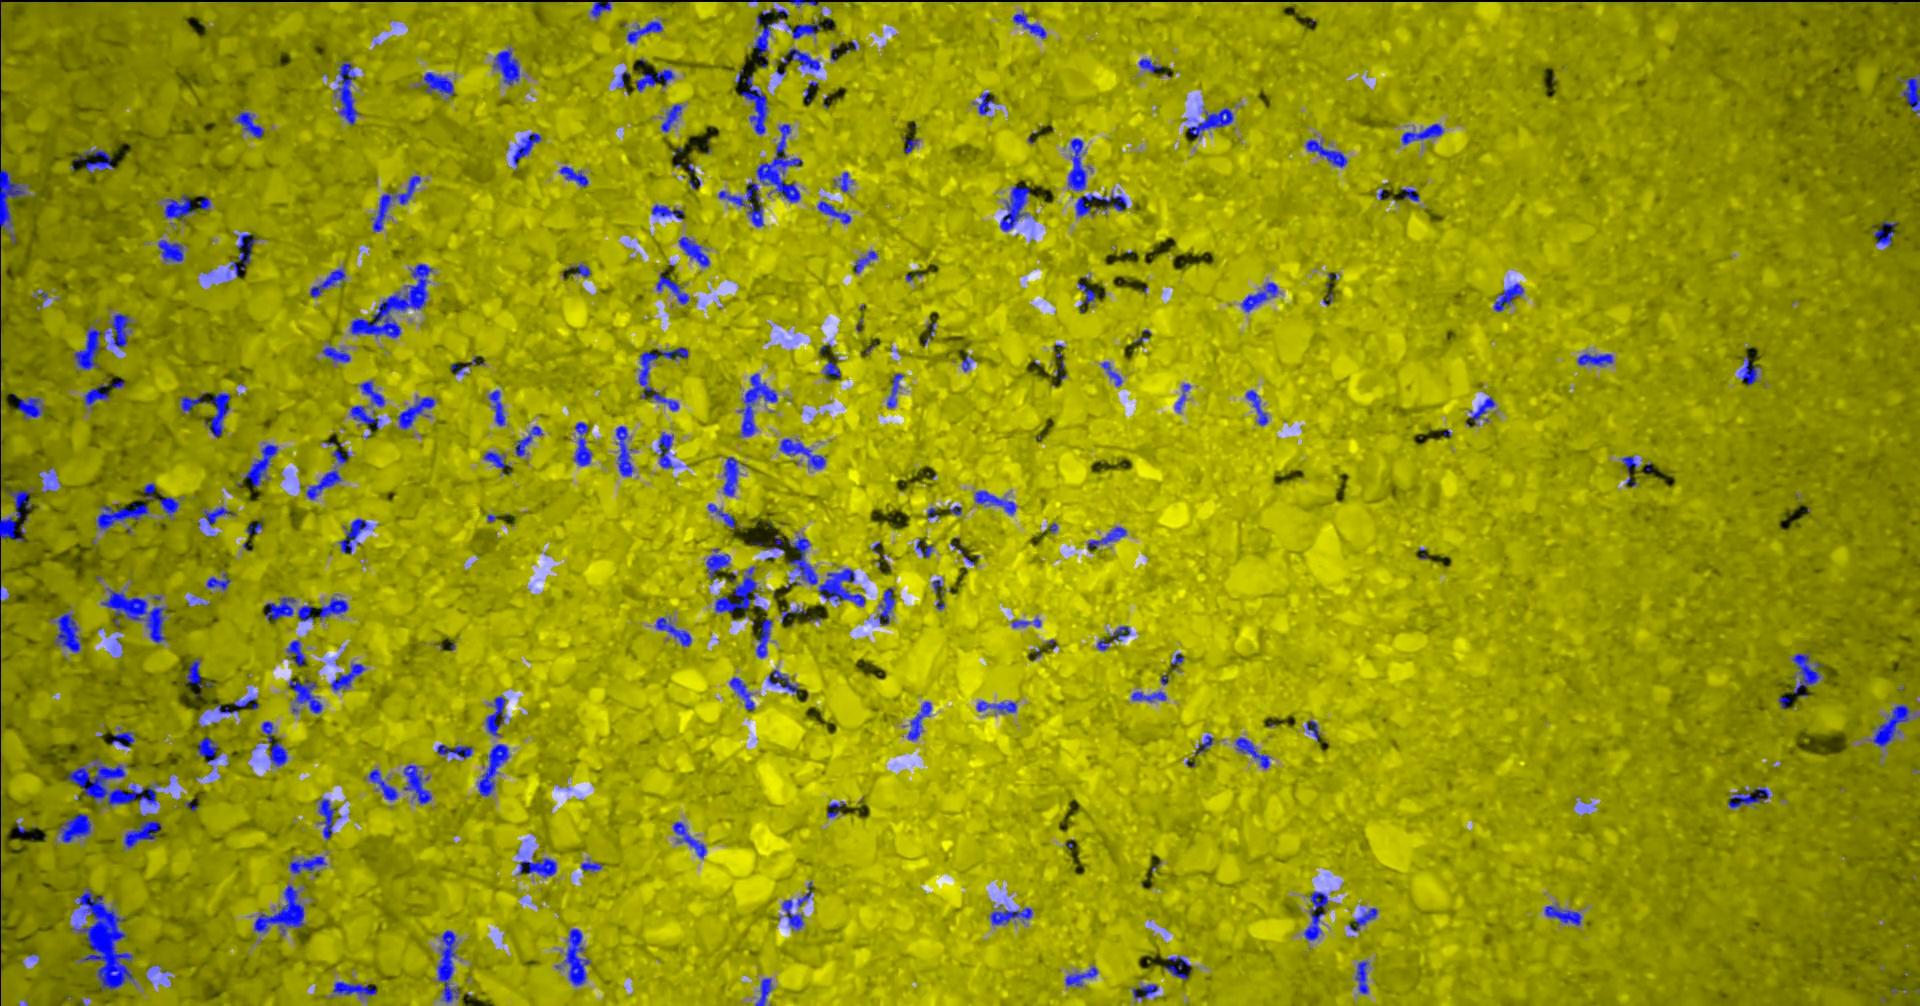ant: (637, 347, 687, 410), (371, 175, 420, 231), (253, 884, 303, 935), (738, 373, 777, 436), (0, 464, 30, 541), (179, 392, 230, 437), (717, 180, 763, 226), (714, 567, 756, 612), (818, 568, 865, 606), (477, 743, 508, 796), (437, 930, 458, 1002), (740, 75, 767, 133), (1872, 704, 1909, 746), (0, 166, 24, 230), (563, 929, 589, 984), (243, 443, 277, 486), (787, 536, 817, 586), (781, 882, 811, 929), (97, 502, 149, 528), (778, 438, 825, 467), (337, 62, 358, 124), (999, 185, 1029, 231), (1074, 191, 1126, 216), (74, 326, 104, 370), (1187, 107, 1232, 136), (397, 395, 434, 429), (1790, 653, 1820, 696), (672, 821, 705, 857), (1303, 890, 1327, 940), (288, 678, 323, 713), (229, 234, 257, 276), (264, 597, 312, 621), (1305, 138, 1346, 166), (142, 483, 178, 514), (262, 721, 287, 766), (305, 469, 342, 499), (1239, 282, 1277, 311), (123, 819, 161, 848), (403, 763, 430, 803), (657, 271, 690, 304), (338, 518, 370, 553), (309, 268, 345, 297), (1236, 737, 1269, 768), (655, 617, 691, 647), (84, 380, 124, 405), (491, 48, 519, 85), (53, 614, 80, 652), (974, 490, 1015, 514), (512, 132, 540, 166), (58, 813, 90, 842), (1067, 138, 1084, 191), (907, 701, 931, 739), (330, 663, 364, 690), (615, 426, 632, 476), (635, 69, 674, 91), (678, 236, 709, 265), (368, 768, 397, 799), (1012, 11, 1045, 38), (74, 149, 112, 171), (184, 658, 213, 687), (1401, 123, 1443, 144), (514, 426, 542, 456), (1087, 526, 1126, 547), (1244, 389, 1267, 426), (729, 677, 754, 710), (1493, 283, 1523, 311), (163, 194, 194, 220), (485, 696, 505, 735), (817, 199, 850, 224), (573, 420, 590, 465), (331, 981, 376, 998), (753, 22, 776, 56), (786, 47, 820, 70), (1727, 788, 1768, 807), (1544, 904, 1581, 925), (235, 111, 263, 137), (317, 798, 335, 840), (767, 669, 797, 694), (706, 547, 729, 579), (626, 22, 662, 42), (1898, 76, 1919, 112), (707, 503, 735, 528), (519, 857, 556, 876), (423, 72, 453, 95), (990, 907, 1032, 923), (1468, 396, 1495, 422), (1349, 907, 1377, 931), (350, 405, 380, 428), (317, 596, 347, 619), (1077, 276, 1095, 312), (110, 312, 130, 347), (359, 380, 383, 406), (1164, 955, 1191, 979), (216, 697, 258, 713), (877, 587, 894, 625), (1873, 220, 1897, 245), (488, 389, 504, 426), (290, 856, 326, 873), (483, 451, 510, 473), (723, 456, 738, 495), (756, 617, 771, 657), (1064, 967, 1097, 984), (203, 506, 234, 525), (197, 735, 218, 762), (660, 103, 681, 131), (786, 22, 820, 38), (886, 373, 903, 408), (1738, 356, 1757, 385), (157, 239, 183, 260), (658, 432, 673, 467), (559, 166, 587, 185), (853, 250, 877, 272), (1100, 361, 1121, 385), (17, 398, 42, 418), (436, 744, 472, 758), (286, 639, 305, 666), (977, 700, 1016, 713), (321, 345, 350, 362), (1354, 960, 1368, 993), (754, 977, 771, 1005), (110, 727, 135, 746), (1576, 353, 1611, 366), (651, 205, 683, 218), (977, 91, 994, 114), (1175, 384, 1190, 410), (780, 607, 806, 622), (206, 573, 230, 589), (1131, 983, 1157, 998), (590, 0, 611, 18), (1131, 691, 1166, 701), (834, 171, 852, 191), (823, 359, 841, 379), (1194, 735, 1211, 754), (1138, 58, 1162, 72), (1109, 625, 1129, 641), (766, 533, 783, 551), (916, 539, 932, 558), (1305, 720, 1321, 741), (1011, 617, 1040, 627), (825, 801, 844, 817), (331, 448, 349, 464), (903, 135, 917, 152), (1622, 455, 1636, 473), (571, 264, 590, 277), (789, 0, 818, 8), (580, 861, 602, 871), (1401, 188, 1418, 199), (932, 579, 943, 597), (196, 197, 210, 210), (246, 522, 262, 533), (1096, 638, 1109, 650)
